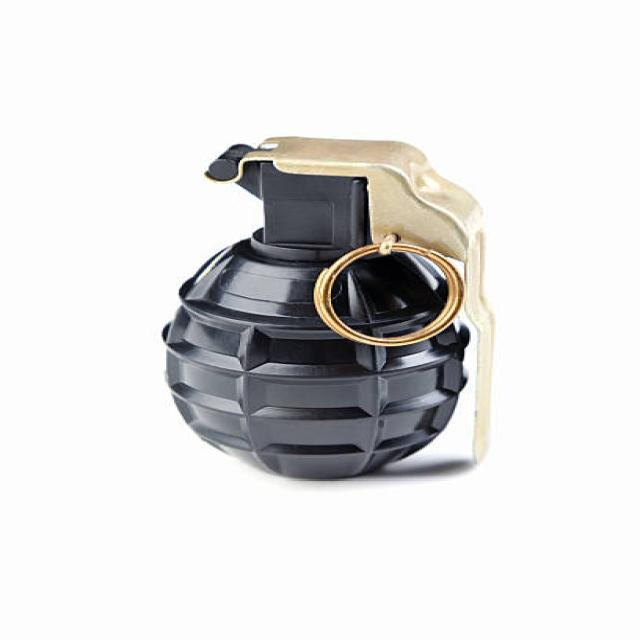grenade: (145, 128, 512, 483)
